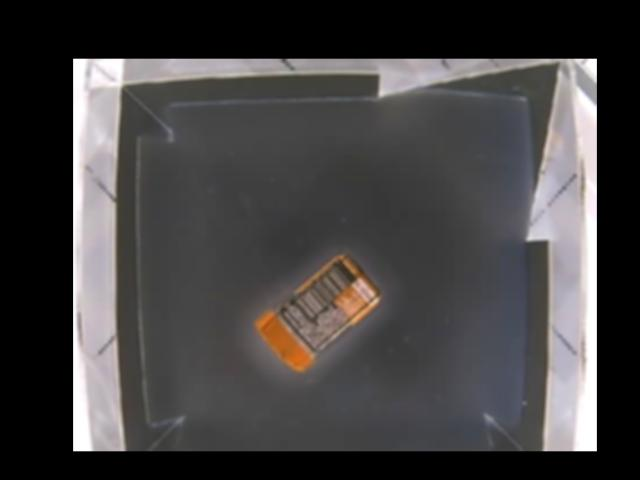Bottle: (255, 255, 380, 373)
